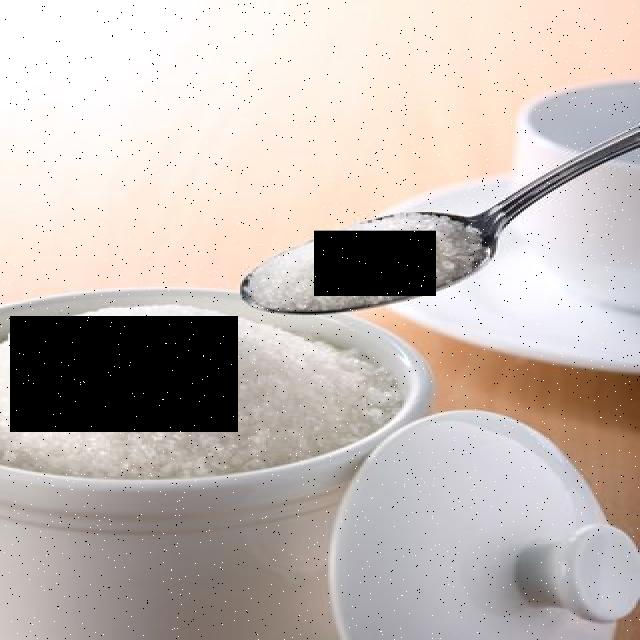Sugar: (12, 316, 240, 432), (314, 231, 436, 296)
